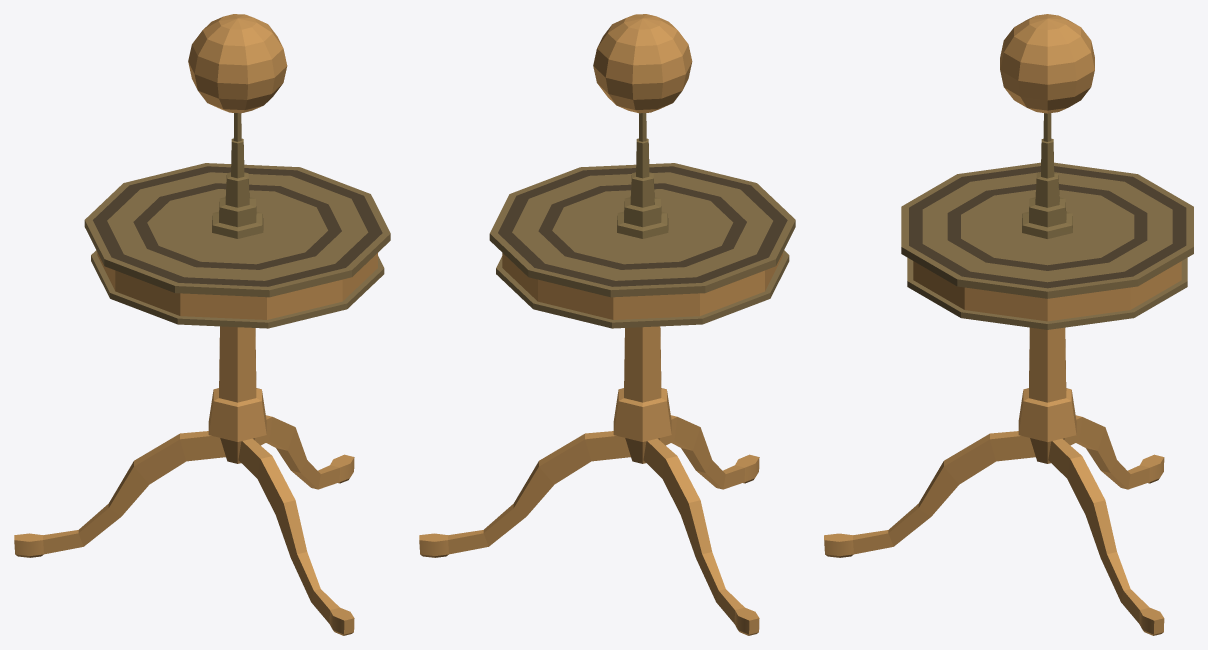
Rendered from kingdom_SM_Prop_Planetarium_01.gltf.
The picture shows the model from 3 angles, left to right: view 1: azimuth 30°, elevation 25°; view 2: azimuth 150°, elevation 25°; view 3: azimuth 270°, elevation 25°; orthographic projection.
Visible parts, largest first — view 1: SM_Prop_Planetarium_01; view 2: SM_Prop_Planetarium_01; view 3: SM_Prop_Planetarium_01.
Part boxes in pixels (box(x1,y1,x2,y2)): SM_Prop_Planetarium_01: box(14, 14, 390, 635); SM_Prop_Planetarium_01: box(419, 14, 795, 635); SM_Prop_Planetarium_01: box(824, 14, 1193, 635).
Size of the model in its own units: 0.8689 by 1.31 by 0.8178.
Materials: 1 (1 with a texture image).
